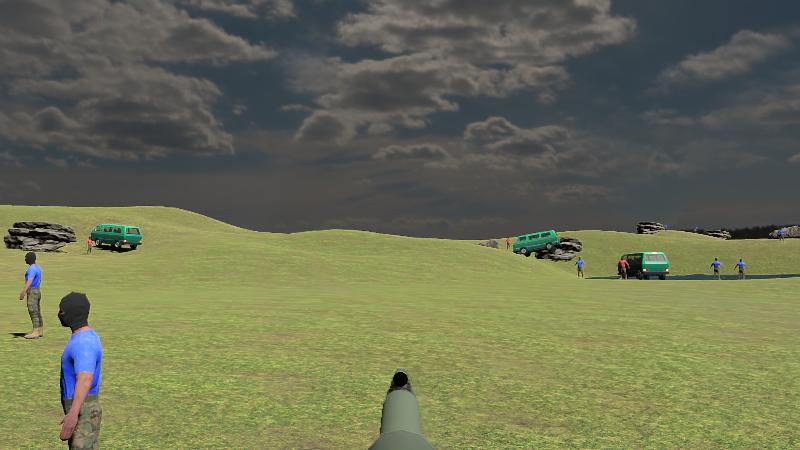Human: (57, 290, 102, 448), (19, 252, 43, 339)
car: (89, 223, 142, 252), (619, 251, 669, 280), (513, 231, 560, 258)
